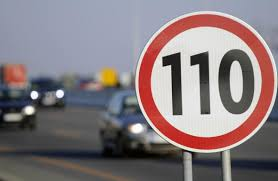Speed_limit_110km: (133, 11, 277, 154)
